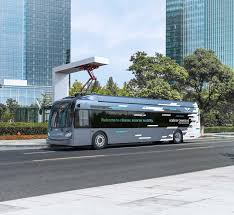bus: (45, 93, 202, 150)
